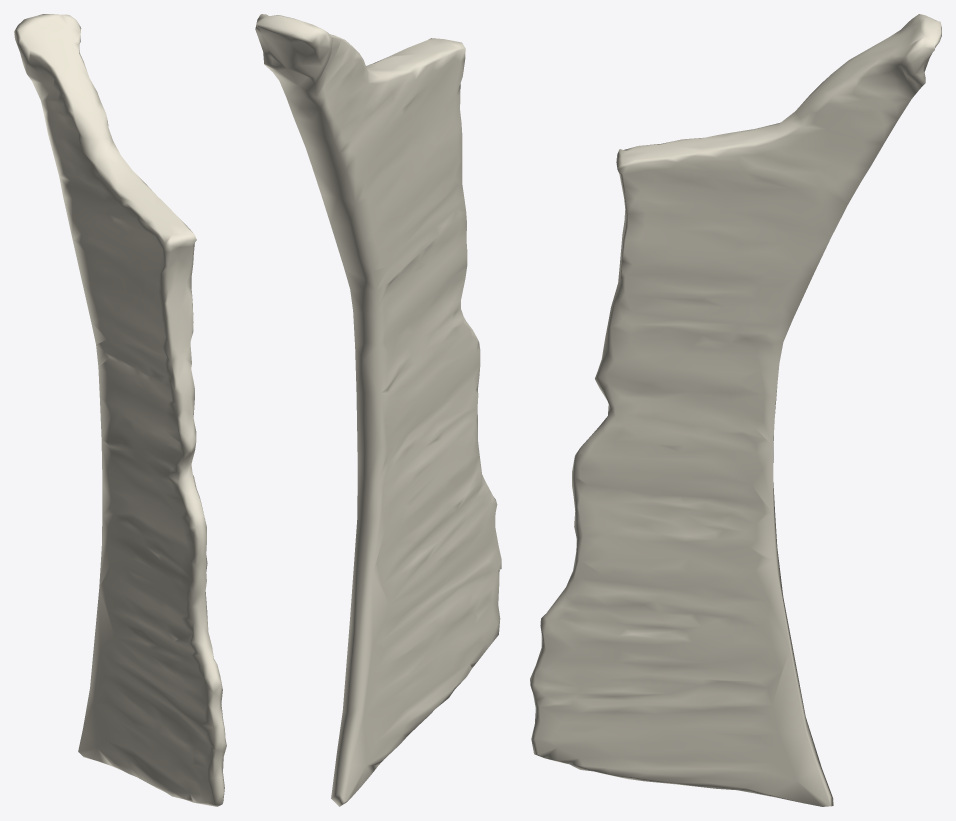
File: fma13427_mm1334.glb
3 views of the same model, side by side, from view 1: azimuth 30°, elevation 25°; view 2: azimuth 150°, elevation 25°; view 3: azimuth 270°, elevation 25° (orthographic). The views are drawn at different scales.
Visible parts, largest first — view 1: FMA13427_MM1334; view 2: FMA13427_MM1334; view 3: FMA13427_MM1334.
Boxes of the visible parts, x1,y1,x2,y2 form: FMA13427_MM1334: (14,14,226,806); FMA13427_MM1334: (255,14,501,806); FMA13427_MM1334: (530,14,941,806).
Bounding box in the file's own units: 0.0117 × 0.1308 × 0.0622.
